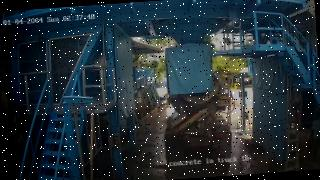cement_mixer_truck: (159, 65, 237, 165)
